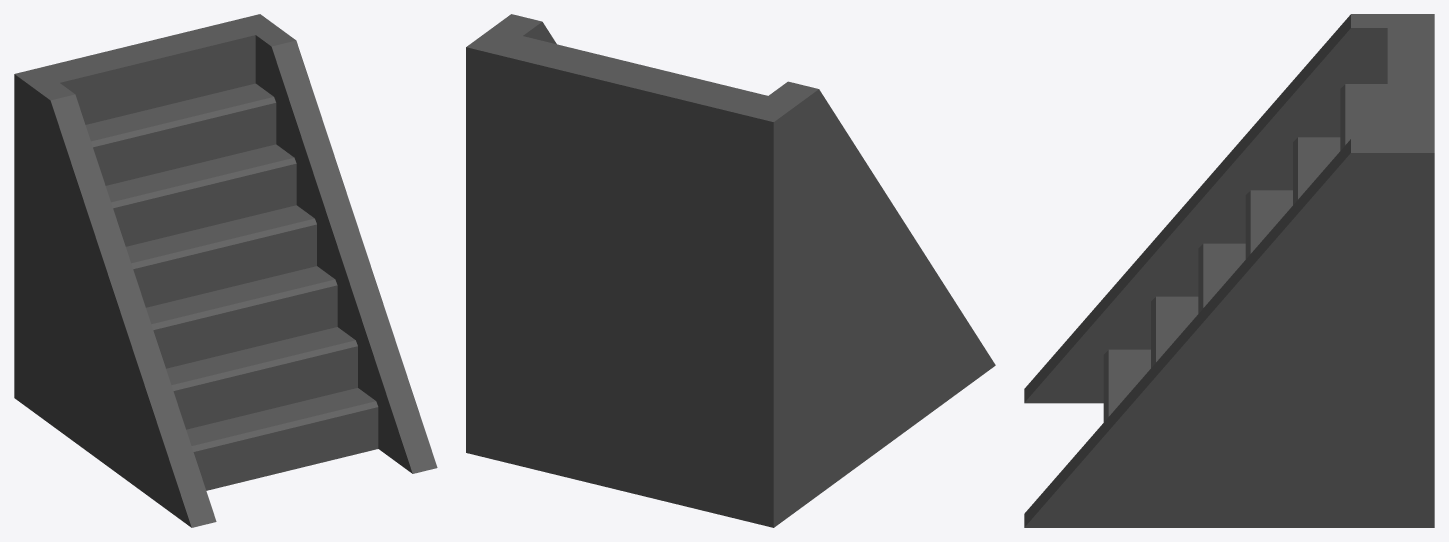
The model's file is Stair_01.fbx.
3 views of the same model, side by side, from view 1: azimuth 30°, elevation 25°; view 2: azimuth 150°, elevation 25°; view 3: azimuth 270°, elevation 25° (orthographic). The views are drawn at different scales.
Parts seen in each view (by area): view 1: Stair_01; view 2: Stair_01; view 3: Stair_01.
Part boxes in pixels (x1,y1,x2,y2): Stair_01: (14,14,437,527); Stair_01: (466,14,995,527); Stair_01: (1024,14,1434,527).
Size of the model in its own units: 100 by 126 by 125.
